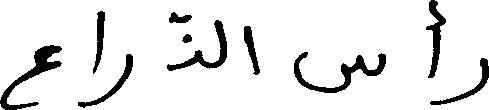X: (294, 47, 385, 97), (0, 40, 59, 109), (170, 7, 198, 75), (459, 53, 488, 104), (106, 49, 132, 103), (428, 0, 439, 109), (95, 6, 104, 109), (246, 21, 258, 79), (215, 15, 226, 72)
